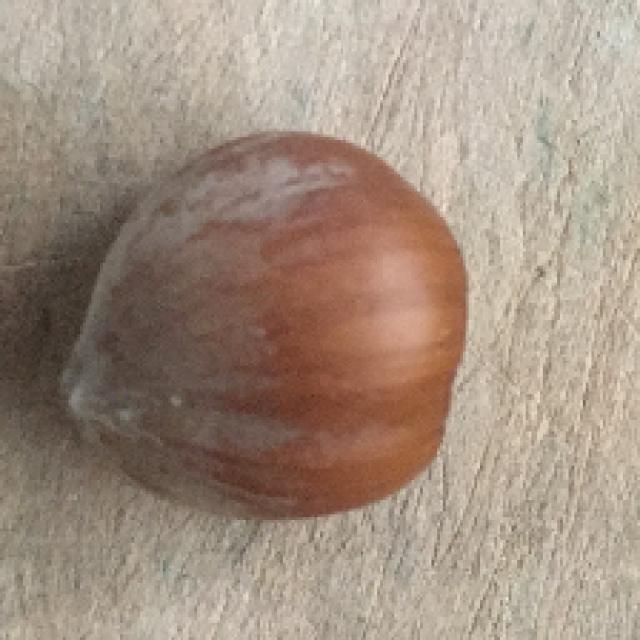qualityHazelnut: (67, 128, 467, 522)
